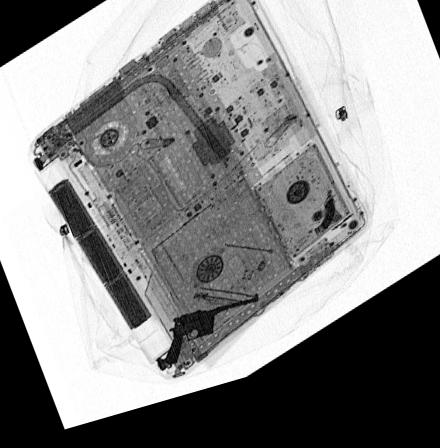Gun: (164, 308, 257, 375)
